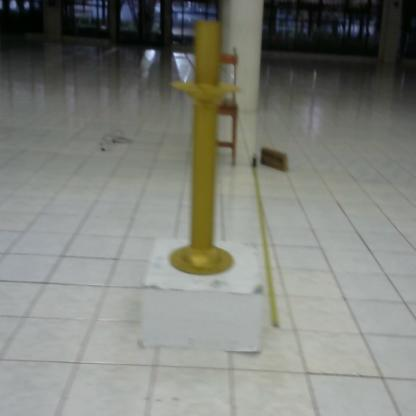pole: (169, 20, 245, 280)
